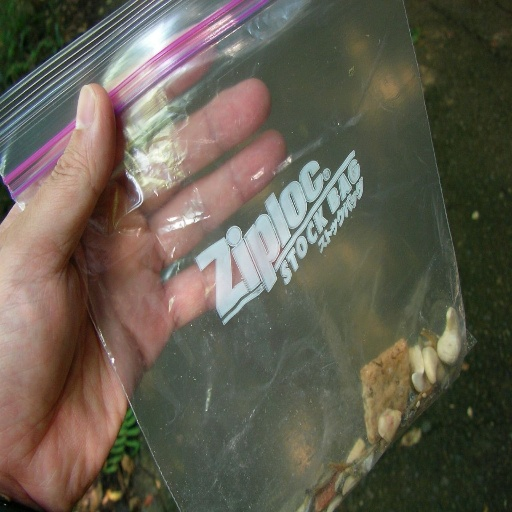hand: (0, 22, 286, 510)
